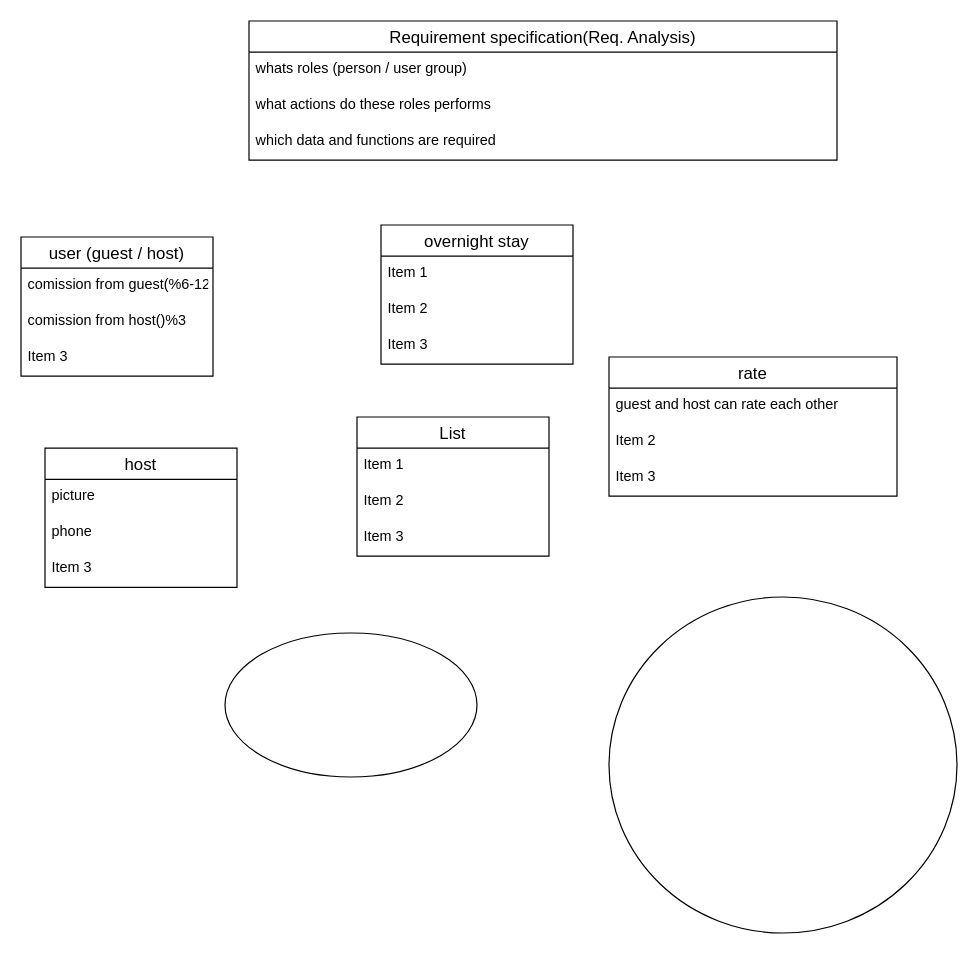
Some shapes in this 978 by 954 pixel diagram are drawn without their labels. Here are the shapes that lost their labels. From the top down, the centre of each, then its label:
(350,704): calculator function to calculate expected income
(782,764): social networks links / display aitBnb user ratisg
